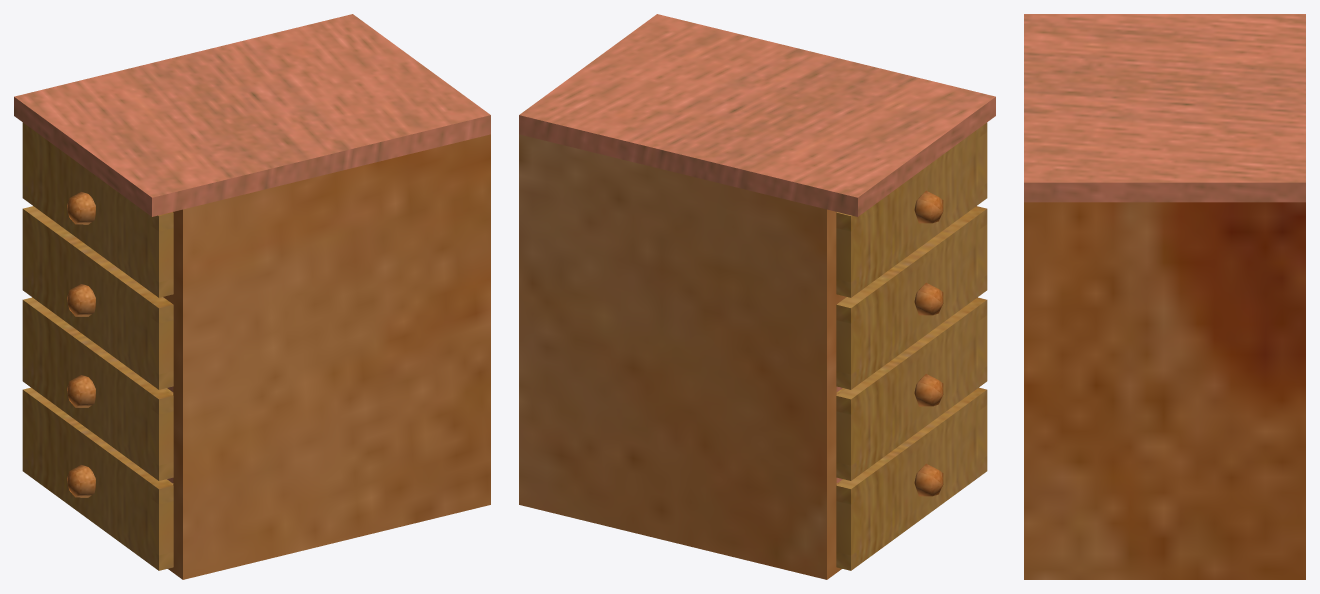
The model's file is kitchen table 2.FBX.
3 renders of one model, left to right at view 1: azimuth 30°, elevation 25°; view 2: azimuth 150°, elevation 25°; view 3: azimuth 270°, elevation 25°, orthographic.
Visible parts, largest first — view 1: Box001, Object003, Sphere002, Sphere003, Sphere004, Sphere001, Object001, Object006, Object005, Object007; view 2: Box001, Object003, Sphere002, Sphere003, Sphere004, Sphere001, Object001, Object007, Object005, Object006; view 3: Box001, Object003.
Boxes of the visible parts, x1,y1,x2,y2 form: Box001: [163, 134, 490, 579]; Object003: [14, 14, 490, 216]; Sphere002: [22, 206, 173, 389]; Sphere003: [22, 297, 173, 480]; Sphere004: [22, 387, 173, 570]; Sphere001: [22, 122, 173, 297]; Object001: [67, 192, 95, 224]; Object006: [67, 375, 95, 407]; Object005: [67, 284, 95, 316]; Object007: [67, 465, 95, 497]; Box001: [519, 134, 846, 579]; Object003: [519, 14, 995, 216]; Sphere002: [836, 206, 987, 389]; Sphere003: [836, 297, 987, 480]; Sphere004: [836, 387, 987, 570]; Sphere001: [836, 122, 987, 297]; Object001: [914, 190, 943, 223]; Object007: [914, 463, 943, 496]; Object005: [914, 282, 943, 315]; Object006: [914, 374, 943, 406]; Box001: [1024, 202, 1305, 579]; Object003: [1024, 14, 1305, 202].
Size of the model in its own units: 64.87 by 68.17 by 43.79.
Materials: 3 (3 with a texture image).
